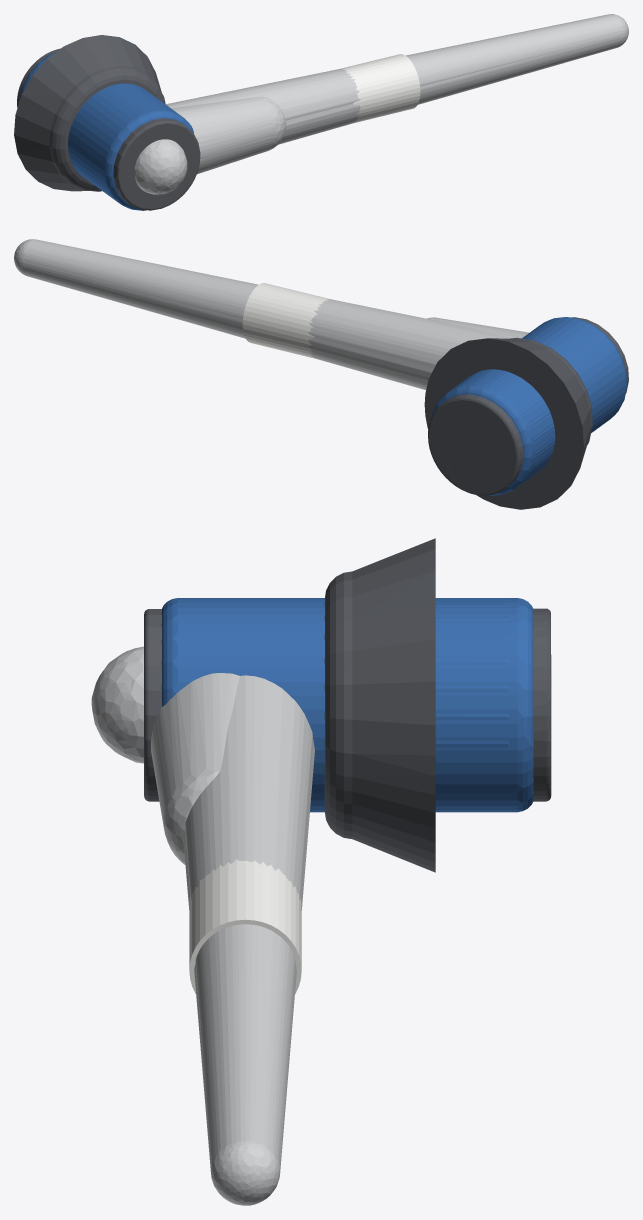
The model's file is arm.glb.
The picture shows the model from 3 angles, top to bottom: view 1: azimuth 30°, elevation 25°; view 2: azimuth 150°, elevation 25°; view 3: azimuth 270°, elevation 25°; orthographic projection. The views are drawn at different scales.
Visible parts, largest first — view 1: b4, b3, b1, b2; view 2: b4, b3, b1; view 3: b4, b3, b1, b2.
Boxes of the visible parts, bbox=[...] form: b4: bbox=[166, 14, 628, 144]; b3: bbox=[17, 48, 286, 210]; b1: bbox=[14, 35, 165, 191]; b2: bbox=[134, 139, 187, 194]; b4: bbox=[14, 239, 555, 485]; b3: bbox=[427, 317, 628, 495]; b1: bbox=[424, 337, 592, 509]; b4: bbox=[183, 598, 509, 1205]; b3: bbox=[144, 598, 551, 864]; b1: bbox=[324, 538, 435, 872]; b2: bbox=[91, 646, 143, 763].
Bounding box in the file's own units: 0.8516 × 0.2191 × 0.2998.
